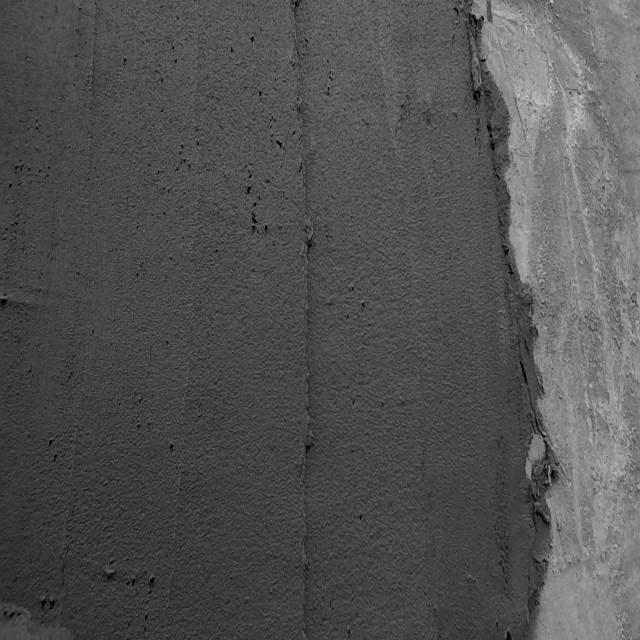trowels marks: (286, 6, 321, 640)
